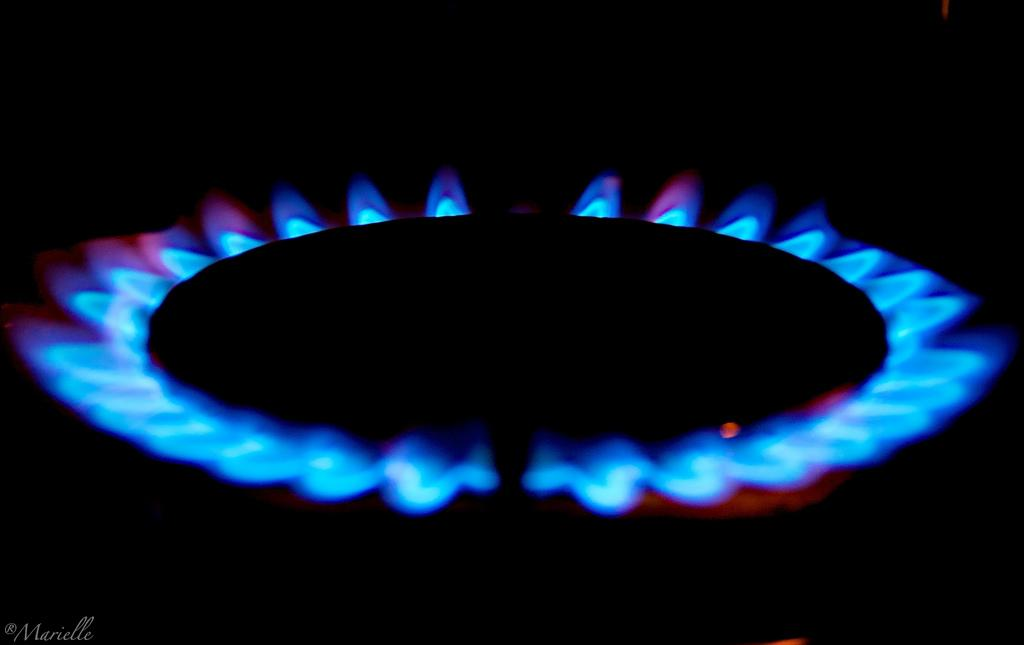fire: (35, 247, 155, 412), (888, 263, 975, 425), (235, 423, 373, 493), (585, 440, 733, 505)
